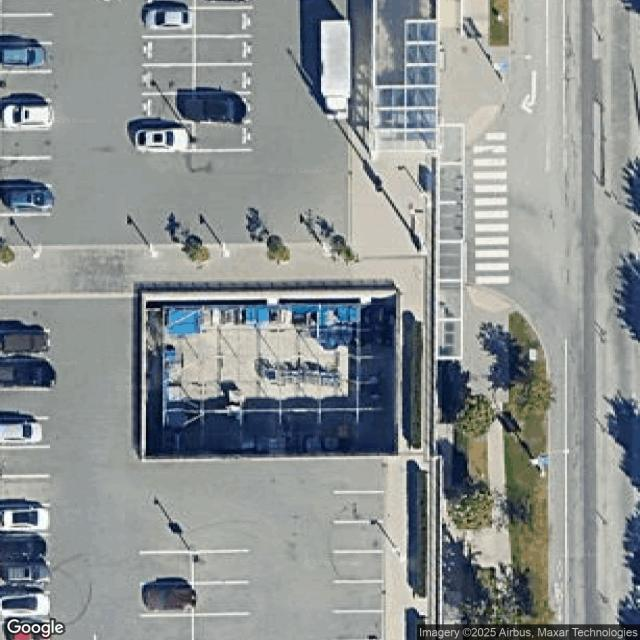car: (179, 90, 248, 121), (1, 360, 57, 390), (0, 183, 56, 212), (2, 586, 50, 618), (136, 126, 190, 154), (141, 584, 199, 610), (1, 558, 49, 589), (0, 328, 52, 354), (5, 103, 54, 130), (1, 506, 48, 533), (146, 8, 194, 33), (1, 420, 42, 446), (2, 46, 45, 68)
lot_boundary: (0, 0, 396, 639)
